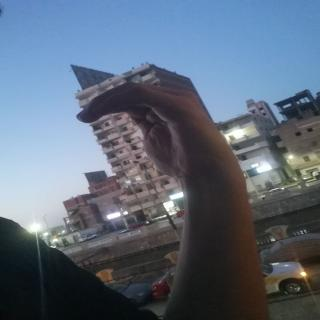HAA: (64, 86, 242, 177)
